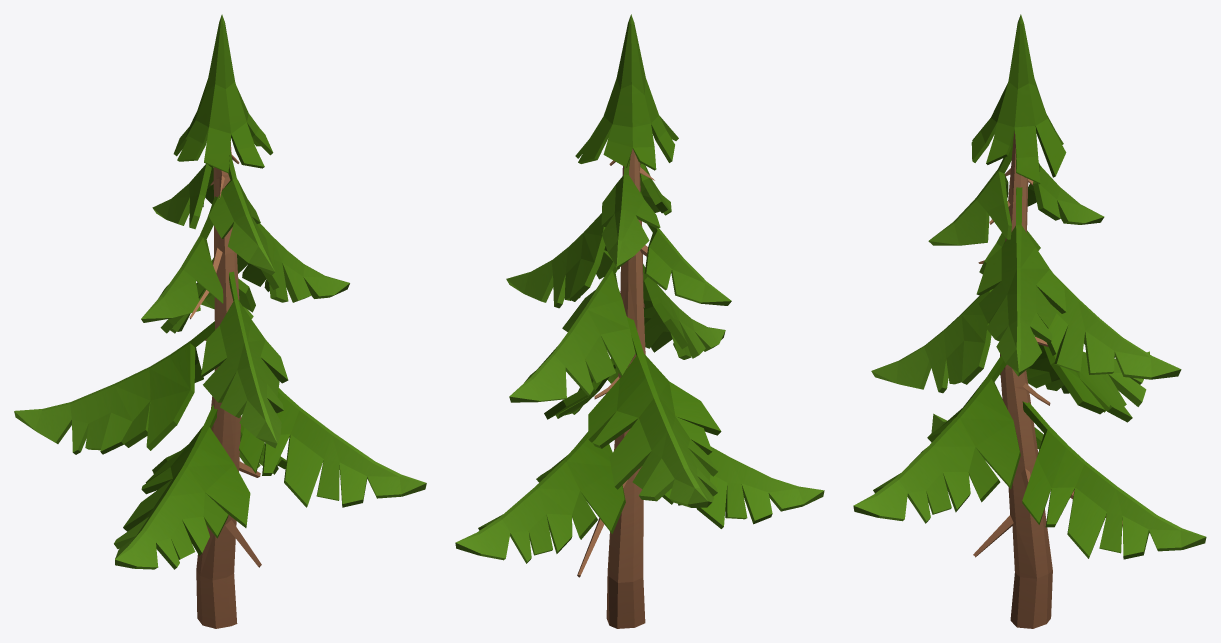
File: Tree_Pine_01.fbx
The picture shows the model from 3 angles, left to right: view 1: azimuth 30°, elevation 25°; view 2: azimuth 150°, elevation 25°; view 3: azimuth 270°, elevation 25°; orthographic projection.
Visible parts, largest first — view 1: Tree_Pine_01; view 2: Tree_Pine_01; view 3: Tree_Pine_01.
Part boxes in pixels (x1,y1,x2,y2): Tree_Pine_01: [14, 14, 426, 628]; Tree_Pine_01: [455, 14, 824, 628]; Tree_Pine_01: [853, 14, 1206, 628].
Bounding box in the file's own units: 436 × 915 × 482.
